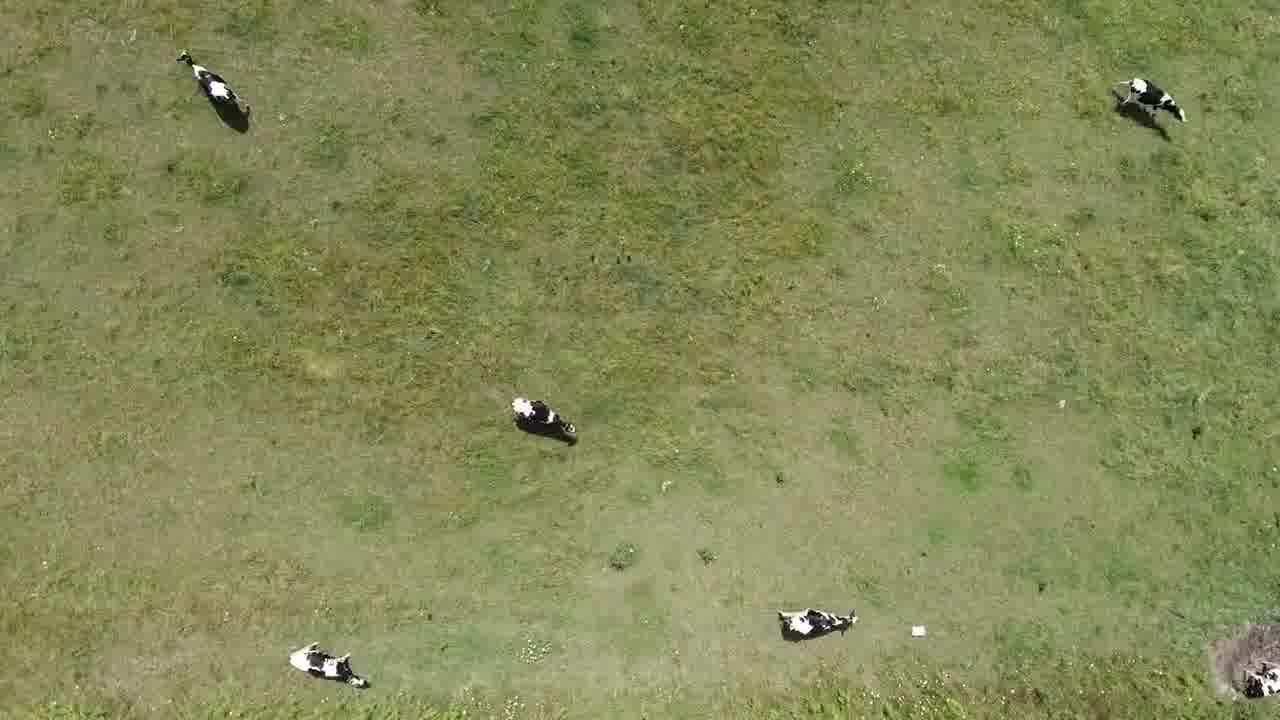cow: (174, 46, 255, 130), (1110, 72, 1191, 132), (284, 640, 371, 692), (506, 390, 581, 444), (774, 605, 860, 644), (1241, 654, 1280, 705)
